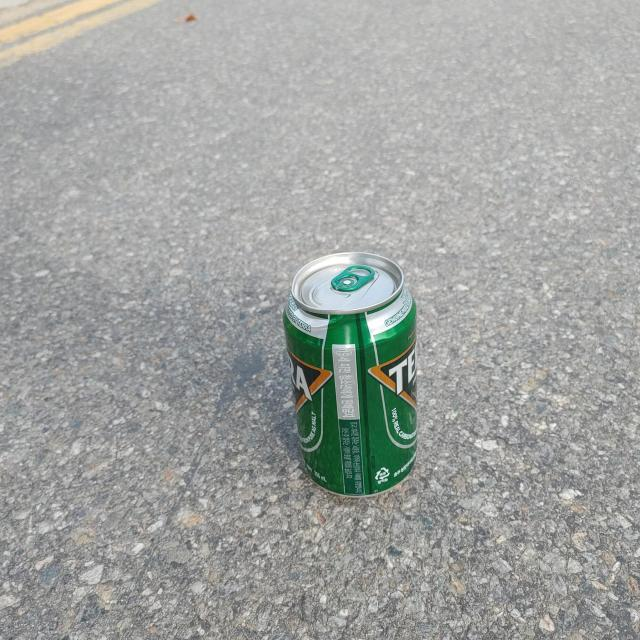can: (284, 252, 418, 497)
